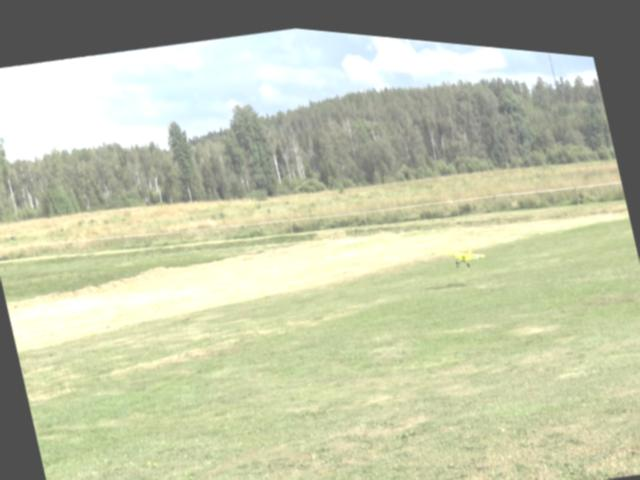plane: (437, 231, 488, 268)
